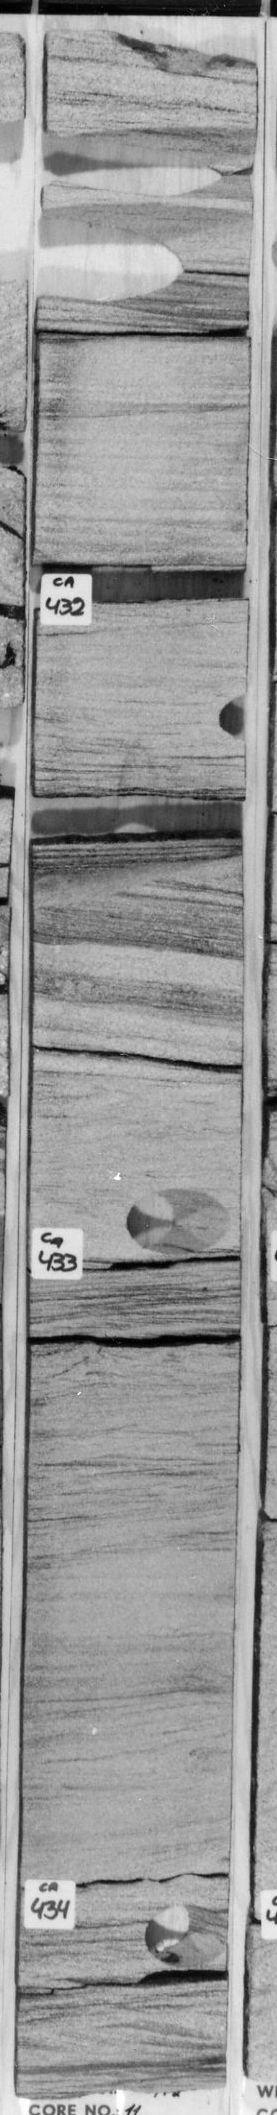hplug: (119, 1178, 231, 1256), (136, 1892, 226, 1967), (212, 687, 246, 747)
scal: (41, 205, 249, 320), (43, 111, 255, 205)
vplug: (112, 741, 170, 793)
